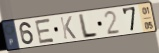2: (103, 9, 122, 36)
6: (18, 21, 35, 46)
7: (121, 6, 137, 33)
E: (34, 17, 57, 45)
K: (59, 15, 78, 40)
L: (78, 13, 99, 40)
